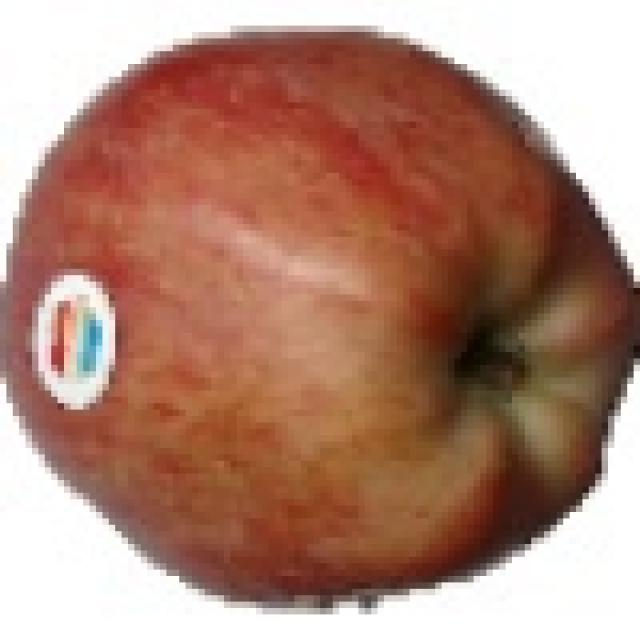apple: (11, 18, 638, 601)
